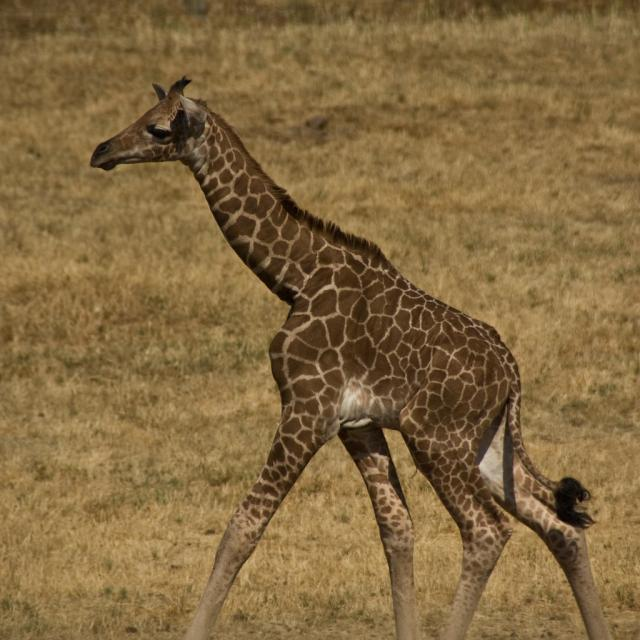girafee: (49, 52, 545, 592)
